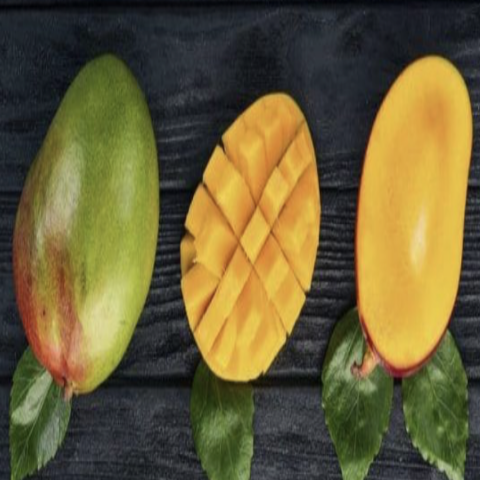mango: (7, 38, 167, 413), (172, 42, 323, 384), (340, 47, 479, 396)
